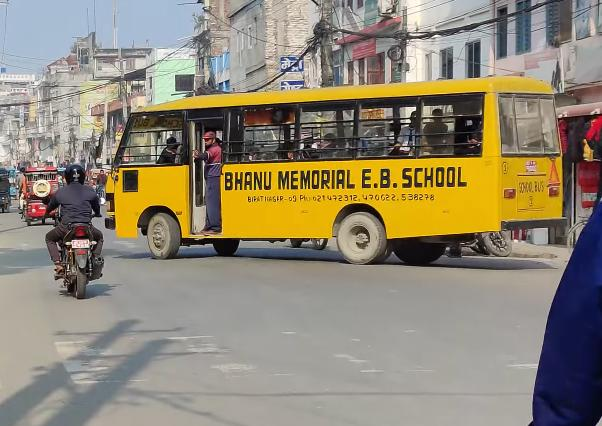bike: (40, 196, 111, 302)
e-rickshaw: (21, 163, 65, 227)
school_bus: (104, 73, 571, 269)
